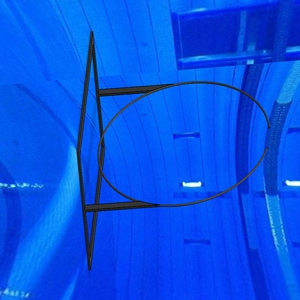circle: (76, 29, 272, 273)
